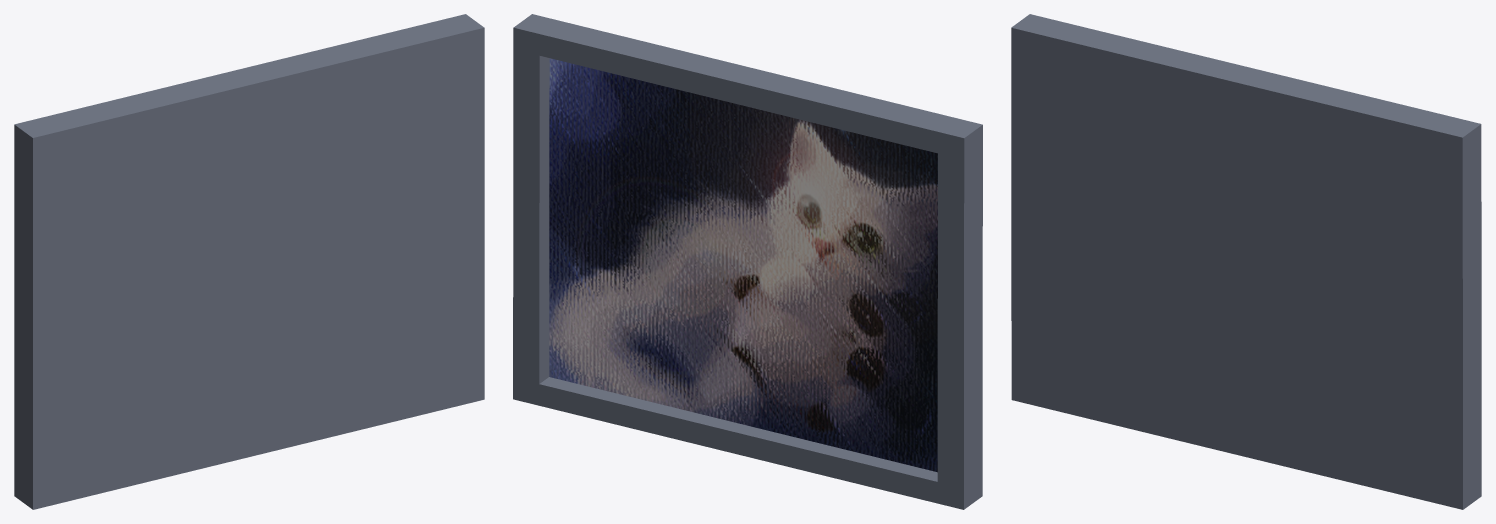
The model's file is frl_apartment_picture_03.glb.
3 views of the same model, side by side, from view 1: azimuth 30°, elevation 25°; view 2: azimuth 150°, elevation 25°; view 3: azimuth 330°, elevation 25° (orthographic).
Parts seen in each view (by area): view 1: frl_apartment_picture_03; view 2: frl_apartment_picture_03; view 3: frl_apartment_picture_03.
Boxes of the visible parts, <box> form: frl_apartment_picture_03: <box>14,14,484,509</box>; frl_apartment_picture_03: <box>513,14,982,509</box>; frl_apartment_picture_03: <box>1011,14,1481,509</box>.
Bounding box in the file's own units: 0.28 × 0.2206 × 0.0204.
1 material, 1 textured.
